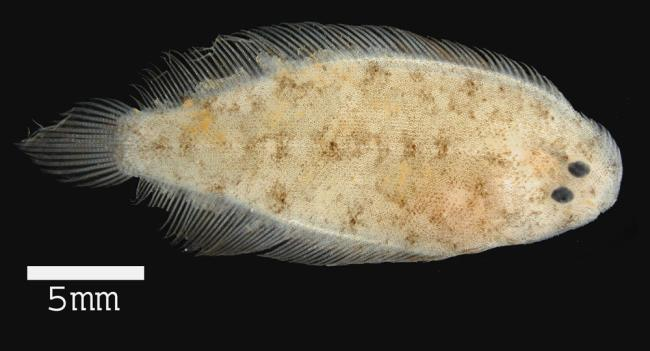fish: (21, 23, 624, 267)
